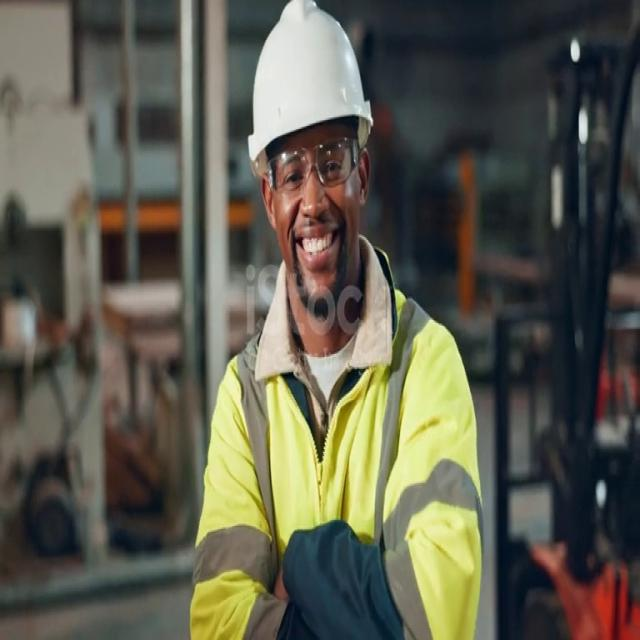capacete: (219, 2, 383, 192)
